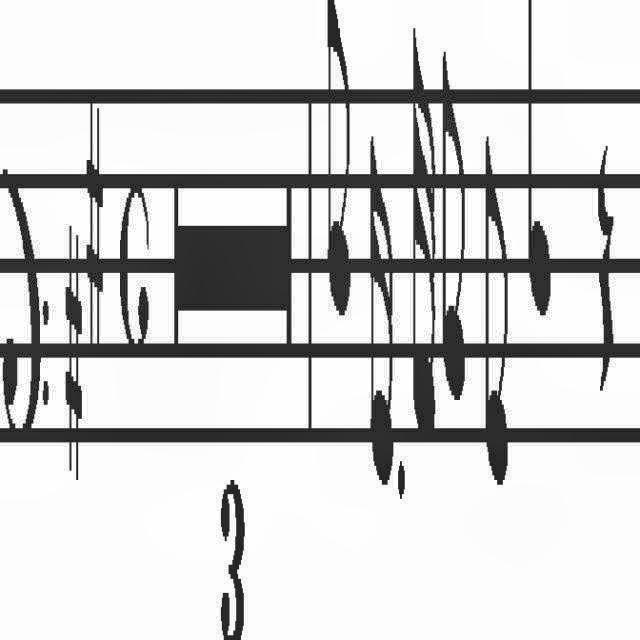Diez: (56, 188, 86, 504), (84, 85, 108, 378)
Eighth-note: (482, 124, 514, 503), (322, 0, 356, 334), (441, 59, 471, 408)
Quarter-note: (526, 1, 552, 340)
Quarter-rest: (594, 125, 618, 407)
Sixteenth-note: (370, 126, 398, 512)
